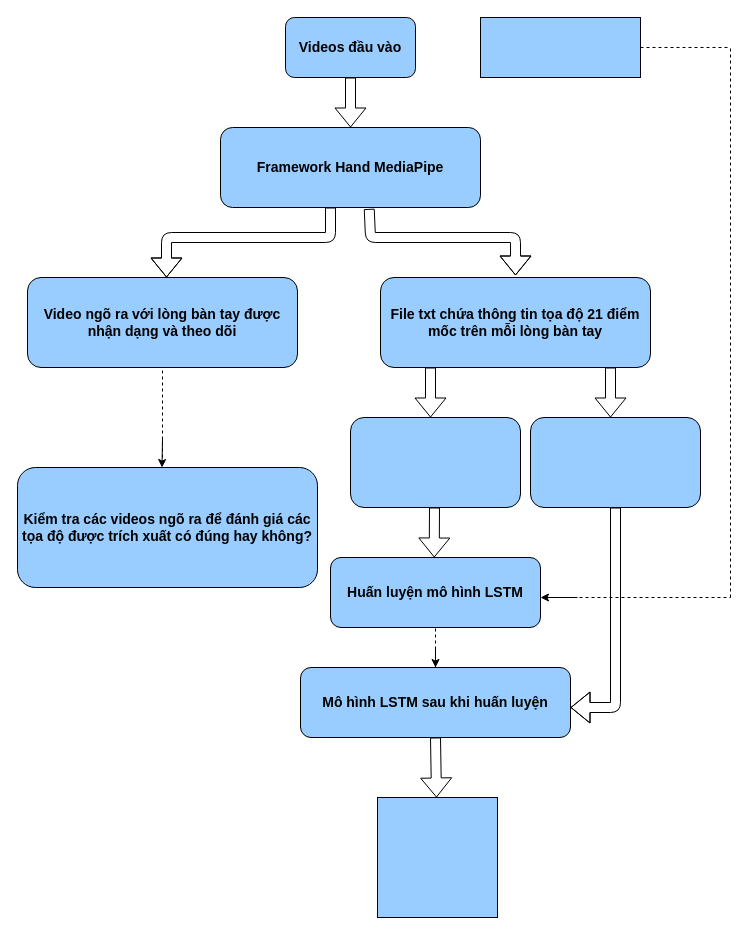
The diagram is 749 pixels wide and 935 high, and some of its shapes have lost their labels. The centre of each missing label's shape, as x and y in pixels:
"Nhãn dự đoán (y_test )" belongs at [437,857].
"Nhãn huấn luyện (y_train)" belongs at [560,47].
"Tiền xử lý tọa độ (x_test)" belongs at [615,462].
"Tiền xử lý tọa độ (x_train)" belongs at [435,462].
